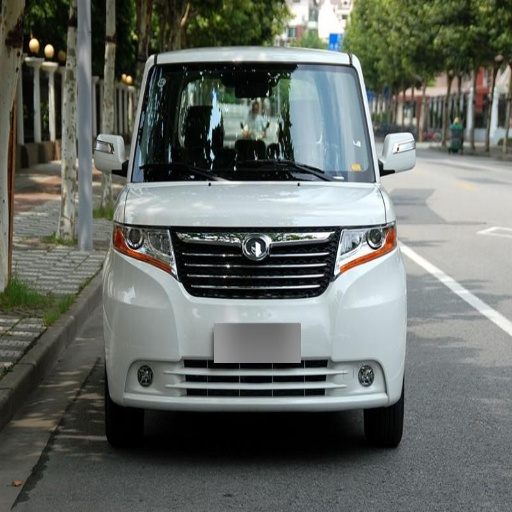front_bumper: (110, 226, 404, 411)
front_right_light: (113, 223, 174, 272)
hood: (121, 182, 387, 226)
left_mirror: (380, 133, 416, 176)
